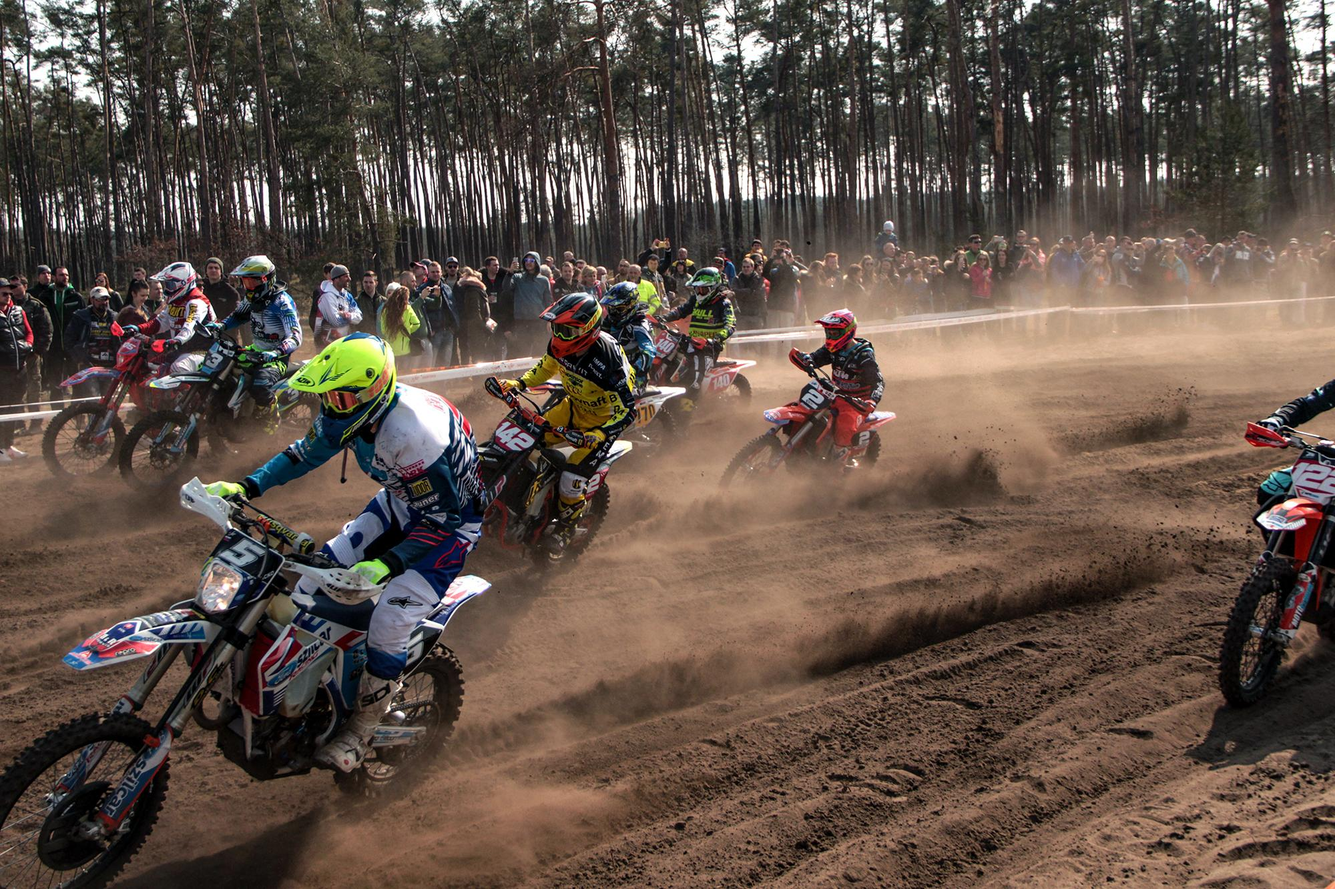helmet: (287, 330, 398, 450), (537, 290, 603, 360), (228, 253, 278, 304), (149, 260, 198, 306), (599, 279, 642, 331), (813, 307, 858, 355), (685, 265, 722, 307)
nohelmet: (88, 285, 112, 314), (127, 278, 150, 308), (330, 264, 352, 290), (204, 256, 224, 284), (0, 277, 18, 306), (522, 250, 541, 276), (361, 269, 379, 296), (50, 265, 70, 289), (146, 278, 163, 302), (36, 264, 52, 286), (581, 265, 597, 287), (428, 261, 443, 283), (561, 261, 575, 284), (484, 256, 500, 276), (445, 256, 459, 278), (626, 264, 642, 283)
